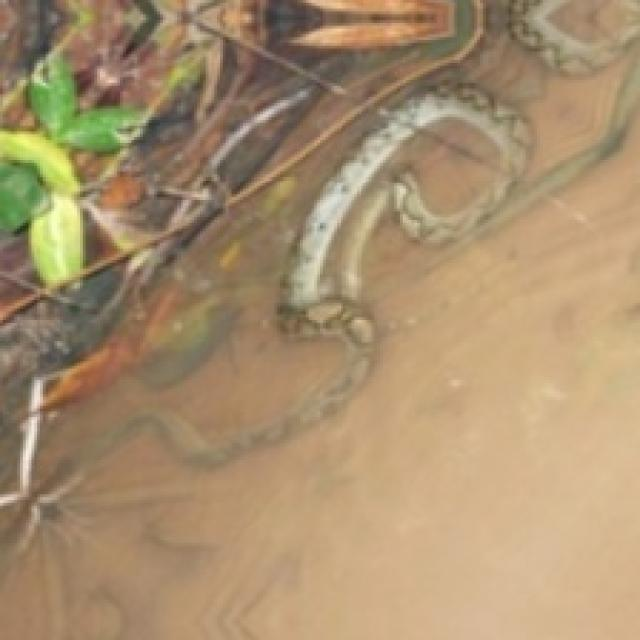reticulated python: (60, 0, 640, 491)
